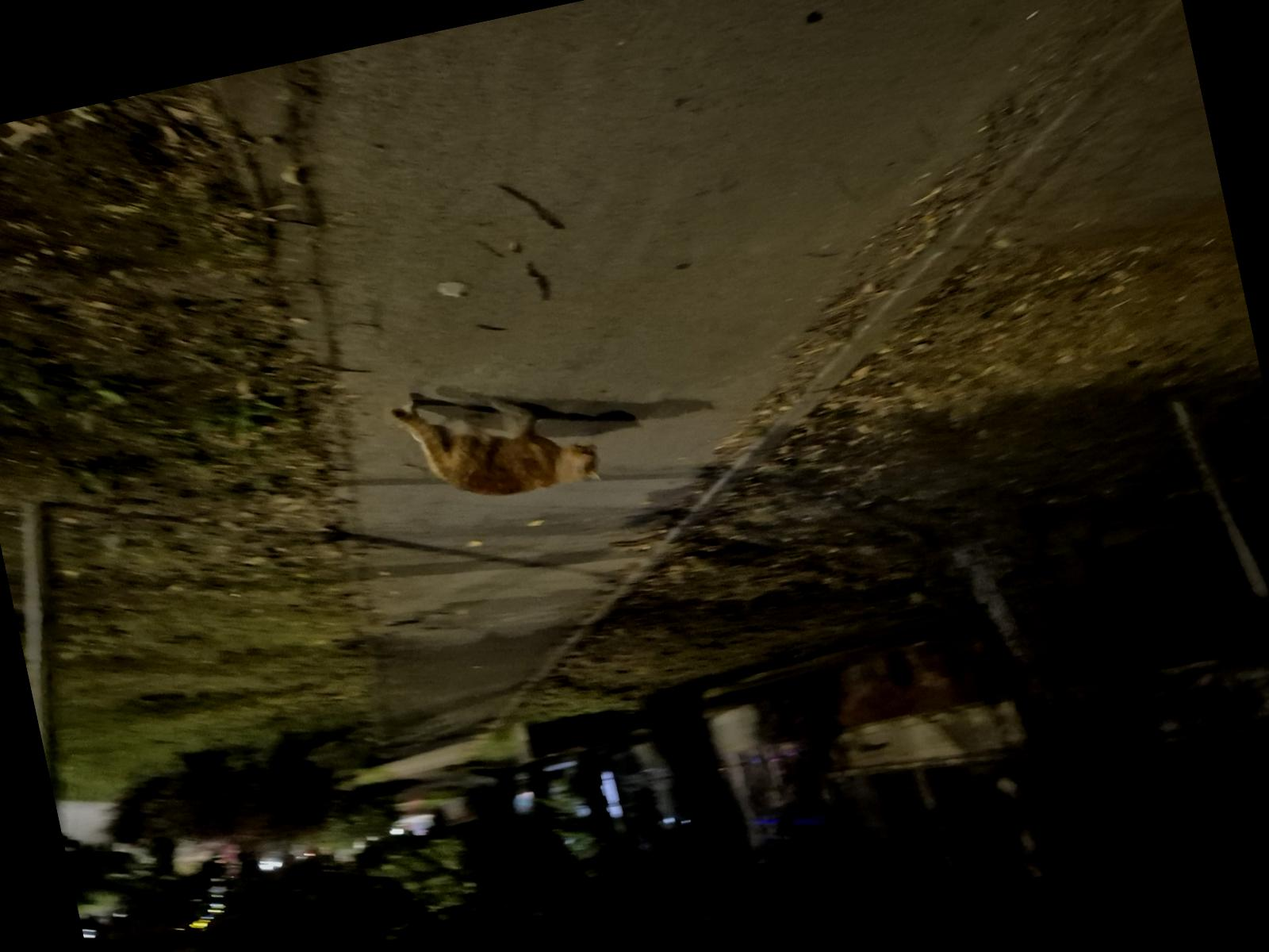macka: (389, 363, 607, 522)
